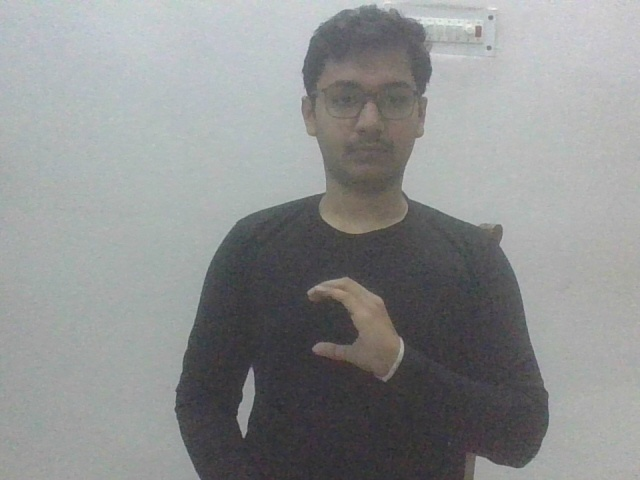C: (303, 271, 408, 386)
